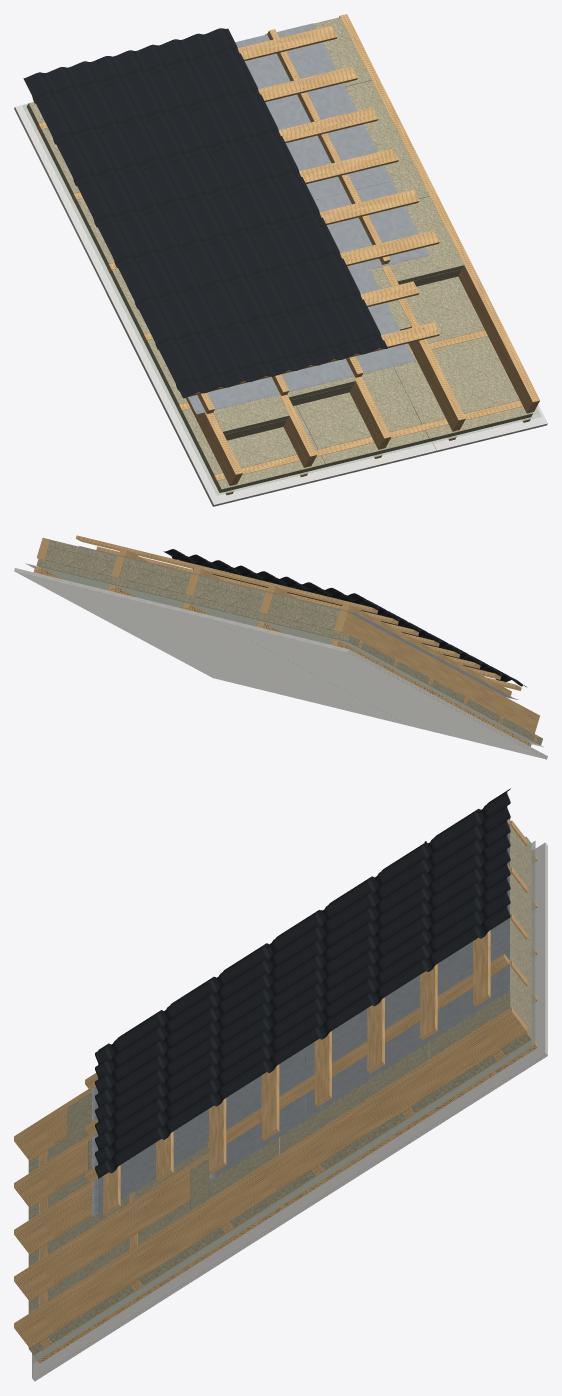
The model's file is roof.glb.
3 renders of one model, top to bottom at view 1: azimuth 30°, elevation 25°; view 2: azimuth 150°, elevation 25°; view 3: azimuth 270°, elevation 25°, orthographic. The views are drawn at different scales.
Visible parts, largest first — view 1: Металлочерепица · профилирован.001, Металлочерепица · профилированны, Металлочерепица · профилирован, Ветрозащита · основное паропрониц, Внутренняя обшивка · слой 2, лист 1, Минеральная вата · поперечный м.004, Стропильная нога 5 · сухая сосна, Минеральная вата · поперечный м.003, Минеральная вата · поперечный м.007, Минеральная вата · пролёт 4, слой.002, Минеральная вата · поперечный м.002, Минеральная вата · пролёт 4, слой 2, (+30 smaller); view 2: Внутренняя обшивка · слой 1, лист 2, Внутренняя обшивка · слой 1, лист 1, Стропильная нога 1 · сухая сосна, Пароизоляционное полотно, Металлочерепица · профилированны, Обрешётка 8 · 25 × 100 мм, Минеральная вата · поперечный м.017, Контрбрус 1 · 50 × 50 мм, Внутренняя обшивка · слой 2, лист 1, Минеральная вата · поперечный м.018, Минеральная вата · поперечный м.019, Ветрозащита · основное паропрониц (+17 smaller); view 3: Металлочерепица · профилирован.001, Металлочерепица · профилированны, Металлочерепица · профилирован, Стропильная нога 5 · сухая сосна, Ветрозащита · основное паропрониц, Внутренняя обшивка · слой 2, лист 2, Стропильная нога 4 · сухая сосна, Сервисная обрешётка 5 · 50 × 50 мм, Пароизоляционное полотно, Контрбрус 4 · 50 × 50 мм, Минеральная вата · пролёт 4, слой.002, Стропильная нога 3 · сухая сосна (+22 smaller).
Part boxes in pixels (bbox=[...]): Металлочерепица · профилирован.001: bbox=[160, 28, 387, 364]; Металлочерепица · профилированны: bbox=[23, 61, 251, 397]; Металлочерепица · профилирован: bbox=[92, 44, 319, 381]; Ветрозащита · основное паропрониц: bbox=[187, 23, 427, 410]; Внутренняя обшивка · слой 2, лист 1: bbox=[14, 103, 436, 505]; Минеральная вата · поперечный м.004: bbox=[393, 336, 519, 424]; Стропильная нога 5 · сухая сосна: bbox=[339, 14, 539, 413]; Минеральная вата · поперечный м.003: bbox=[296, 367, 421, 449]; Минеральная вата · поперечный м.007: bbox=[406, 276, 484, 348]; Минеральная вата · пролёт 4, слой.002: bbox=[345, 80, 429, 198]; Минеральная вата · поперечный м.002: bbox=[180, 405, 317, 478]; Минеральная вата · пролёт 4, слой 2,: bbox=[389, 196, 463, 284]; Внутренняя обшивка · слой 1, лист 2: bbox=[14, 569, 409, 725]; Внутренняя обшивка · слой 1, лист 1: bbox=[212, 618, 547, 759]; Стропильная нога 1 · сухая сосна: bbox=[333, 610, 539, 733]; Пароизоляционное полотно: bbox=[25, 563, 543, 747]; Металлочерепица · профилированны: bbox=[300, 582, 526, 686]; Обрешётка 8 · 25 × 100 мм: bbox=[76, 535, 377, 613]; Минеральная вата · поперечный м.017: bbox=[244, 609, 359, 646]; Контрбрус 1 · 50 × 50 мм: bbox=[341, 602, 511, 698]; Внутренняя обшивка · слой 2, лист 1: bbox=[126, 595, 547, 757]; Минеральная вата · поперечный м.018: bbox=[140, 584, 251, 620]; Минеральная вата · поперечный м.019: bbox=[36, 559, 146, 594]; Ветрозащита · основное паропрониц: bbox=[78, 545, 515, 699]; Металлочерепица · профилирован.001: bbox=[95, 874, 510, 1178]; Металлочерепица · профилированны: bbox=[95, 788, 510, 1092]; Металлочерепица · профилирован: bbox=[95, 831, 510, 1135]; Стропильная нога 5 · сухая сосна: bbox=[14, 1007, 527, 1347]; Ветрозащита · основное паропрониц: bbox=[98, 818, 510, 1214]; Внутренняя обшивка · слой 2, лист 2: bbox=[32, 982, 546, 1379]; Стропильная нога 4 · сухая сосна: bbox=[14, 961, 527, 1301]; Сервисная обрешётка 5 · 50 × 50 мм: bbox=[34, 1037, 537, 1363]; Пароизоляционное полотно: bbox=[32, 840, 535, 1363]; Контрбрус 4 · 50 × 50 мм: bbox=[207, 954, 509, 1148]; Минеральная вата · пролёт 4, слой.002: bbox=[280, 1042, 429, 1154]; Стропильная нога 3 · сухая сосна: bbox=[14, 914, 527, 1254].
Size of the model in its own units: 2.74 by 2.3 by 2.9.
Materials: 12 (6 with a texture image).
